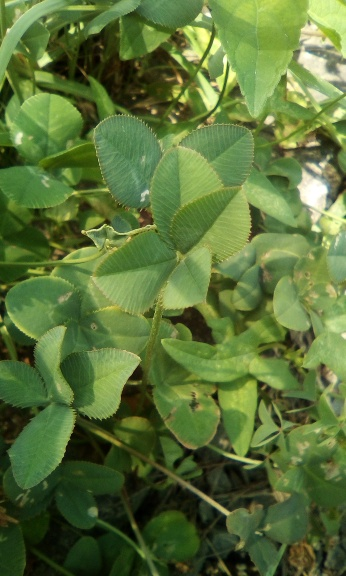4leaf: (90, 145, 252, 317), (1, 325, 143, 491)
